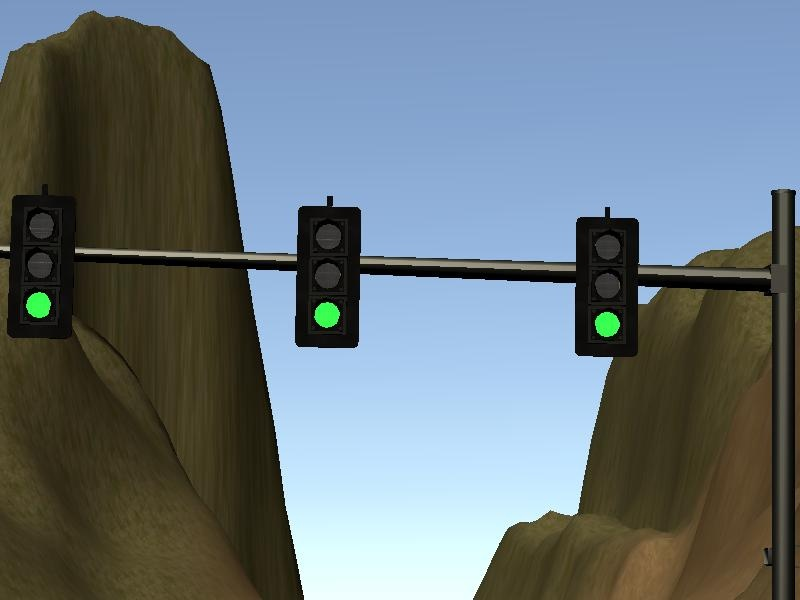GREEN: (573, 216, 639, 359), (8, 194, 73, 338), (296, 207, 360, 350)
